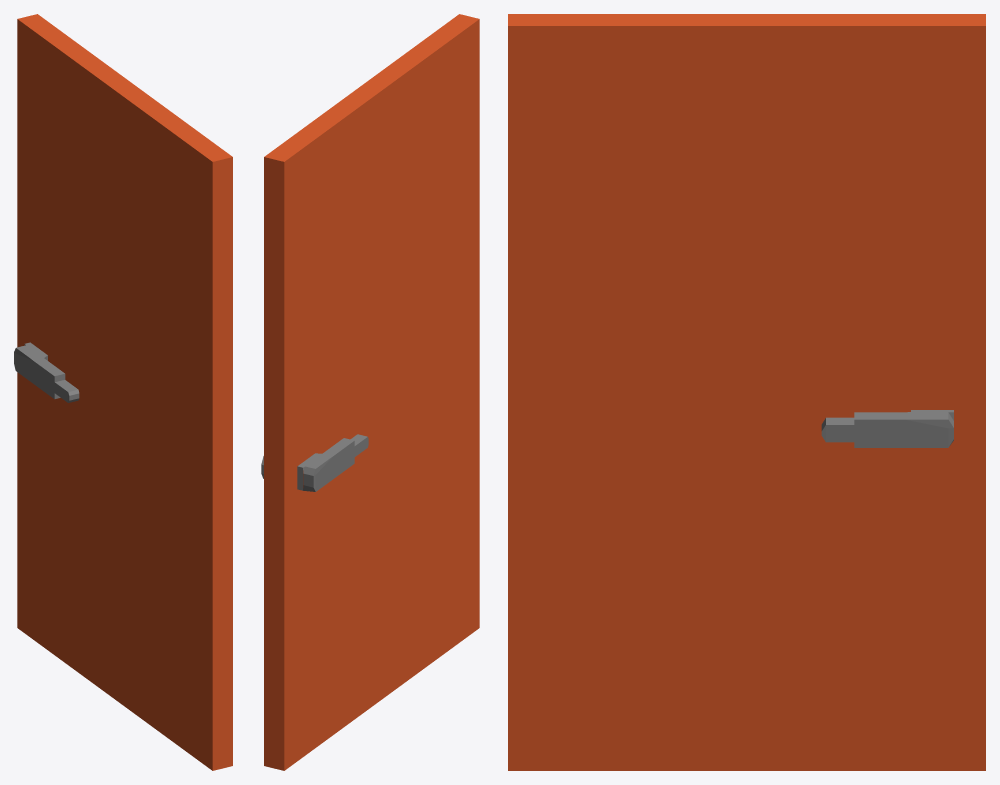
The model's file is bathroom_door.glb.
3 views of the same model, side by side, from view 1: azimuth 30°, elevation 25°; view 2: azimuth 150°, elevation 25°; view 3: azimuth 270°, elevation 25° (orthographic). The views are drawn at different scales.
Visible parts, largest first — view 1: Cube.001; view 2: Cube.001; view 3: Cube.001.
Part boxes in pixels (bbox=[...]): Cube.001: bbox=[14, 14, 232, 770]; Cube.001: bbox=[261, 14, 479, 770]; Cube.001: bbox=[508, 14, 985, 770].
Size of the model in its own units: 0.3909 by 4.3 by 2.5.
